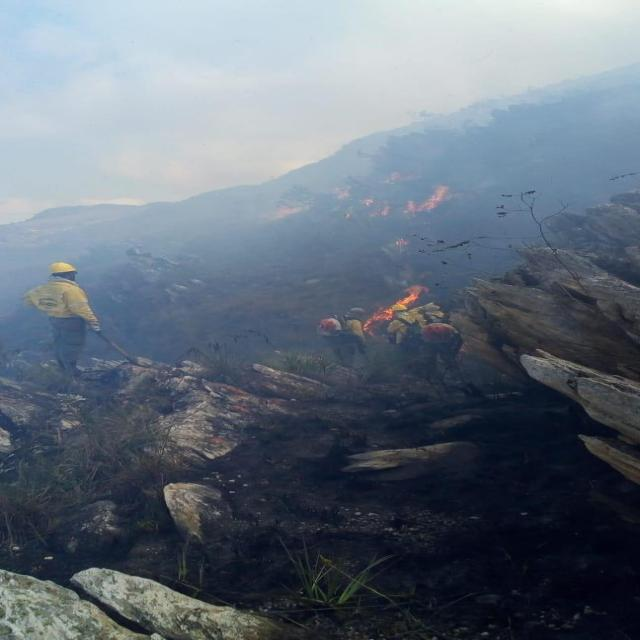Fire: (366, 289, 420, 328), (396, 187, 450, 215)
